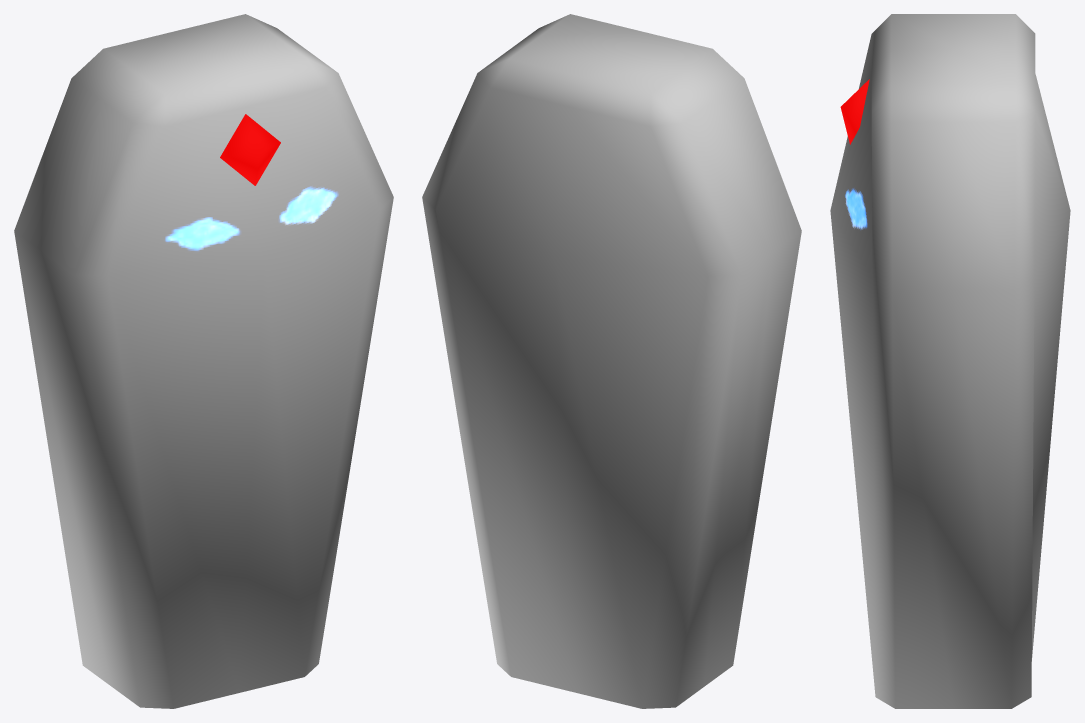
File: sarcophagus.fbx
The picture shows the model from 3 angles, left to right: view 1: azimuth 30°, elevation 25°; view 2: azimuth 150°, elevation 25°; view 3: azimuth 270°, elevation 25°; orthographic projection.
Visible parts, largest first — view 1: Cube; view 2: Cube; view 3: Cube.
Part boxes in pixels (x1,y1,x2,y2): Cube: [14, 14, 393, 708]; Cube: [422, 14, 801, 708]; Cube: [830, 14, 1070, 708].
Bounding box in the file's own units: 57.2 × 104 × 36.78.
